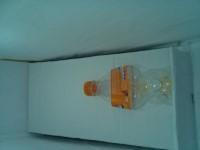bottle: (82, 64, 172, 110)
